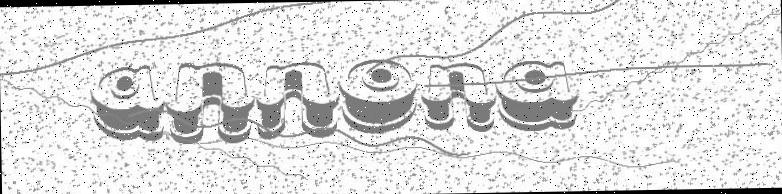a: (497, 58, 579, 133), (89, 63, 166, 142)
n: (165, 60, 257, 146), (256, 60, 340, 139), (419, 62, 497, 134)
o: (340, 57, 418, 134)
